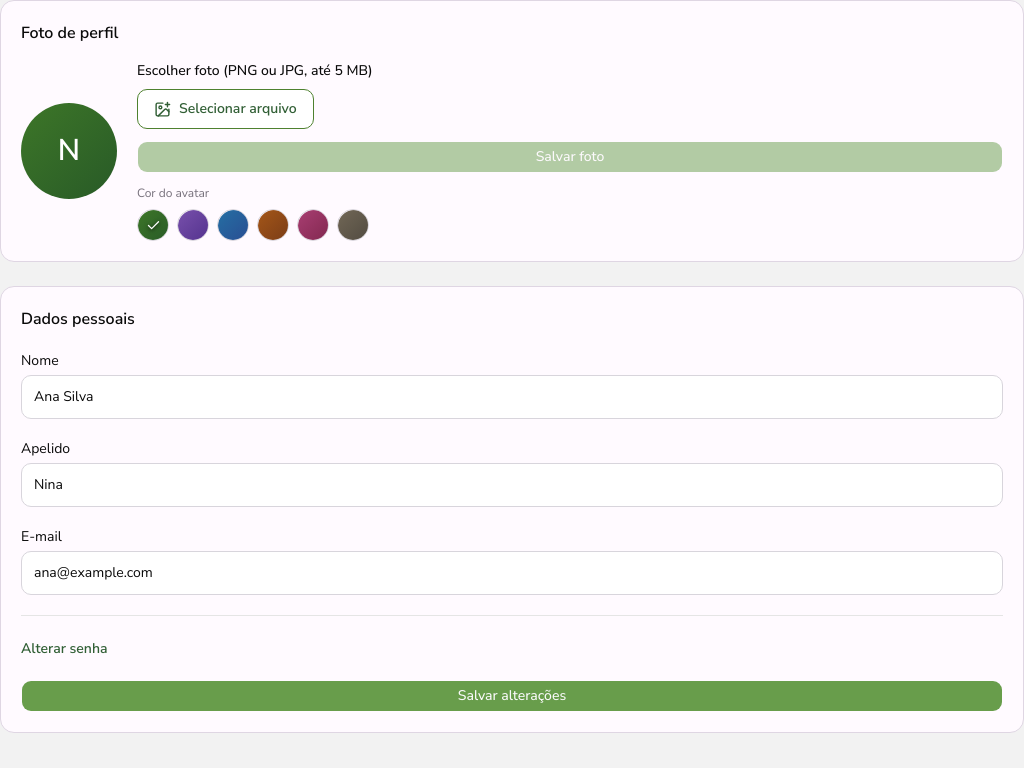
Scenario: ProfilePage › persists avatar color selection and hides palette once a profile photo exists
The width and height of the screenshot is (1024, 768).
Later steps or results of the test are not shown.
Click the button named "Azul claro" at (233, 225), box [217,209,249,241]
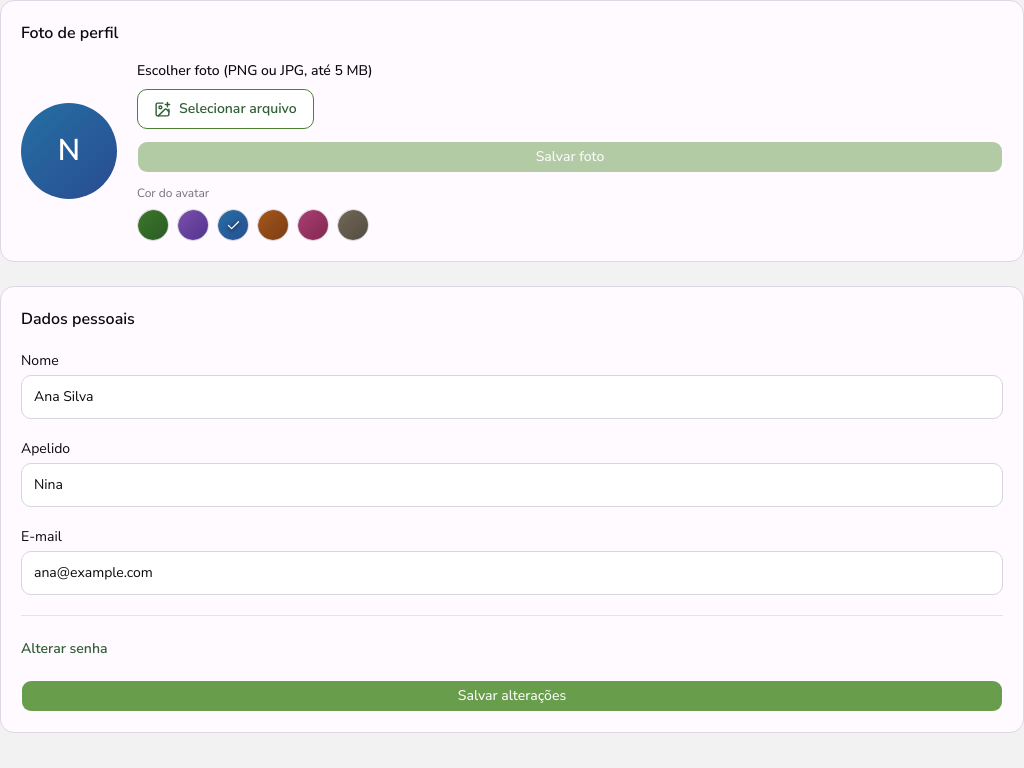
Expected: the button named "Azul claro" is pressed, [217,209,249,241]
